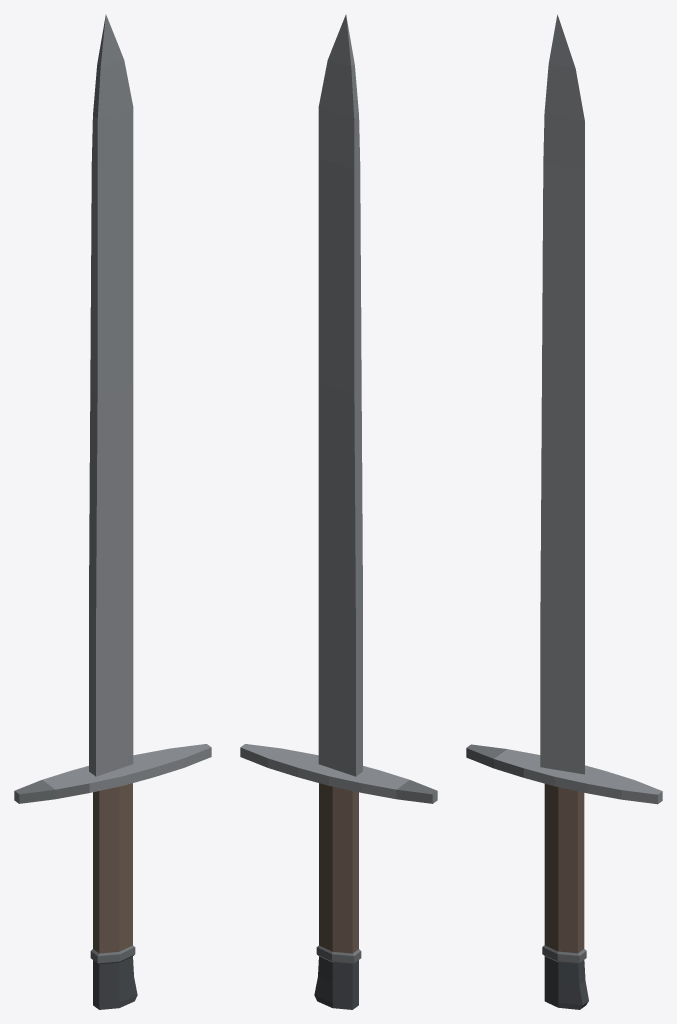
File: Falchion.003.fbx
3 views of the same model, side by side, from view 1: azimuth 30°, elevation 25°; view 2: azimuth 150°, elevation 25°; view 3: azimuth 330°, elevation 25° (orthographic).
Visible parts, largest first — view 1: Falchion.003; view 2: Falchion.003; view 3: Falchion.003.
Boxes of the visible parts, <box> form: Falchion.003: <box>14,14,211,1009</box>; Falchion.003: <box>240,14,437,1009</box>; Falchion.003: <box>466,14,662,1009</box>.
Bounding box in the file's own units: 24.07 × 118 × 4.28.
